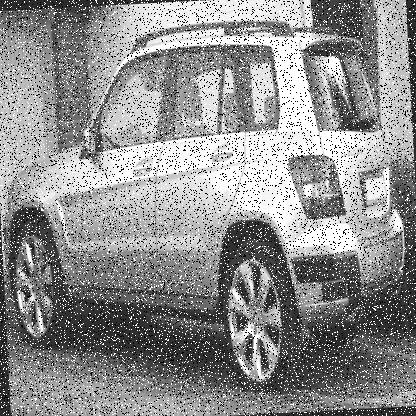Car: (0, 7, 413, 407)
